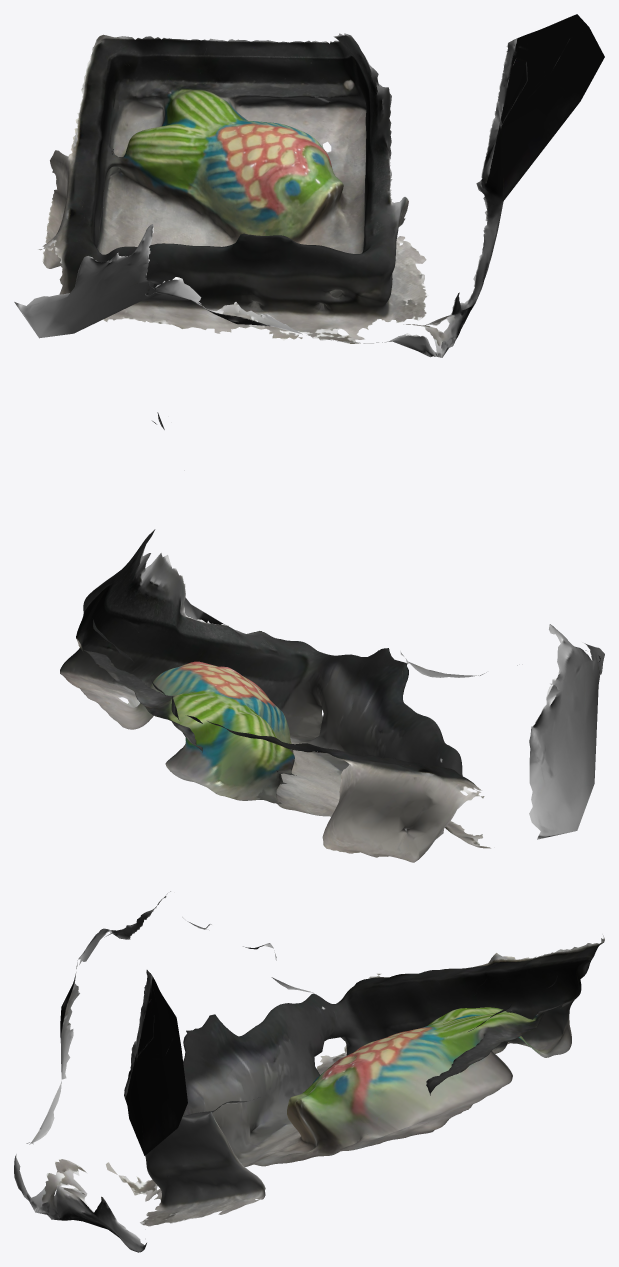
3 renders of one model, top to bottom at view 1: azimuth 30°, elevation 25°; view 2: azimuth 150°, elevation 25°; view 3: azimuth 270°, elevation 25°, orthographic. The views are drawn at different scales.
Size of the model in its own units: 0.9594 by 0.4533 by 0.7649.
Materials: 1 (1 with a texture image).
